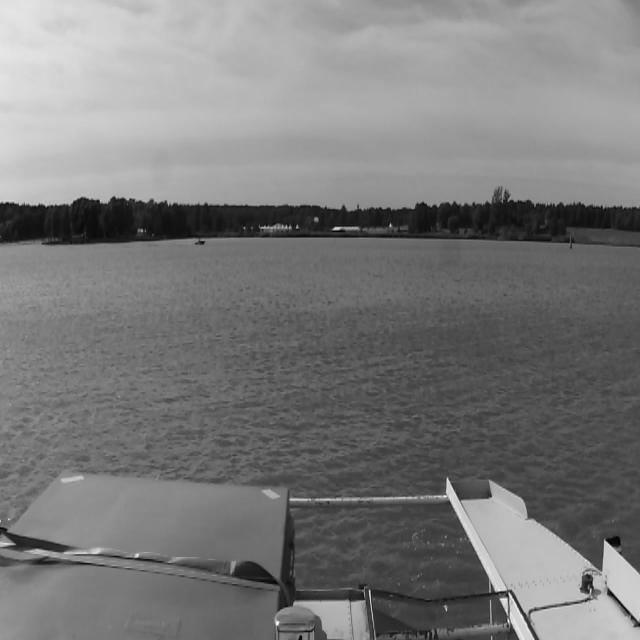buoy: (570, 235, 572, 249)
ship: (195, 238, 205, 246)
